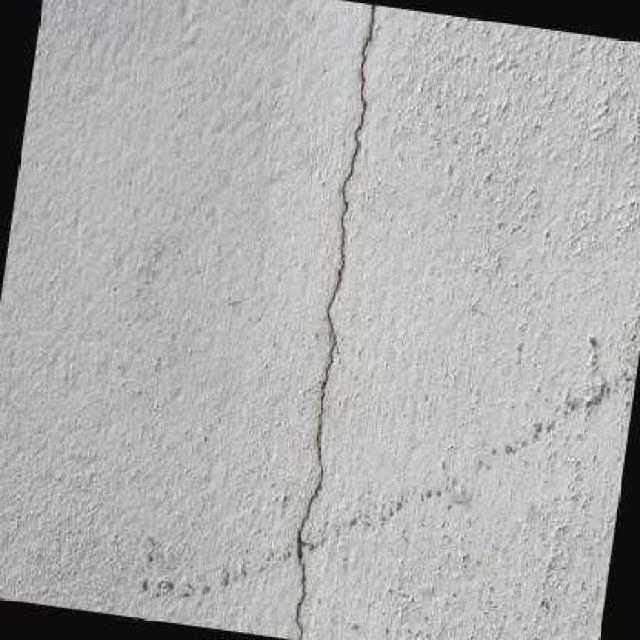D00: (295, 4, 375, 640)
